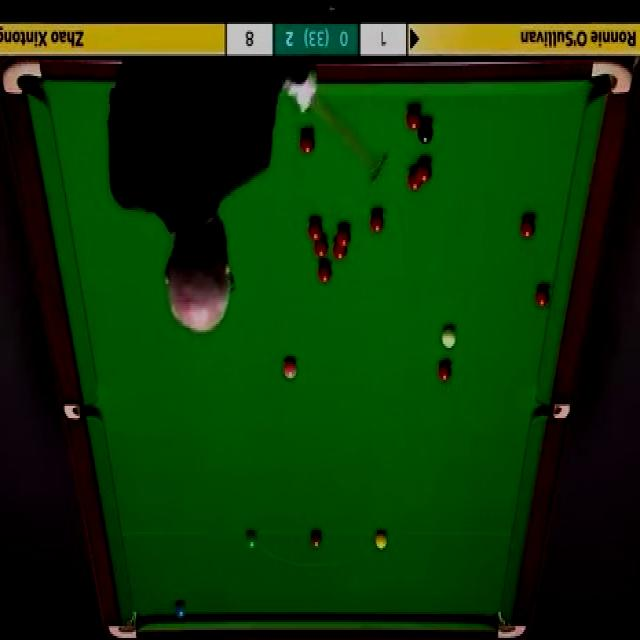black-ball: (419, 122, 433, 146)
blue-ball: (174, 601, 187, 617)
brown-ball: (310, 531, 323, 550)
green-ball: (246, 531, 259, 550)
pink-ball: (282, 356, 298, 378)
red-ball: (406, 106, 422, 134), (521, 216, 538, 242), (315, 262, 334, 284), (416, 160, 432, 184), (309, 219, 323, 244), (300, 129, 313, 155), (536, 285, 550, 309), (371, 212, 385, 236), (408, 169, 422, 192), (335, 225, 350, 246), (333, 241, 348, 262), (314, 237, 328, 259), (438, 362, 452, 380)
white-ball: (441, 324, 457, 350)
yellow-ball: (375, 531, 388, 550)
